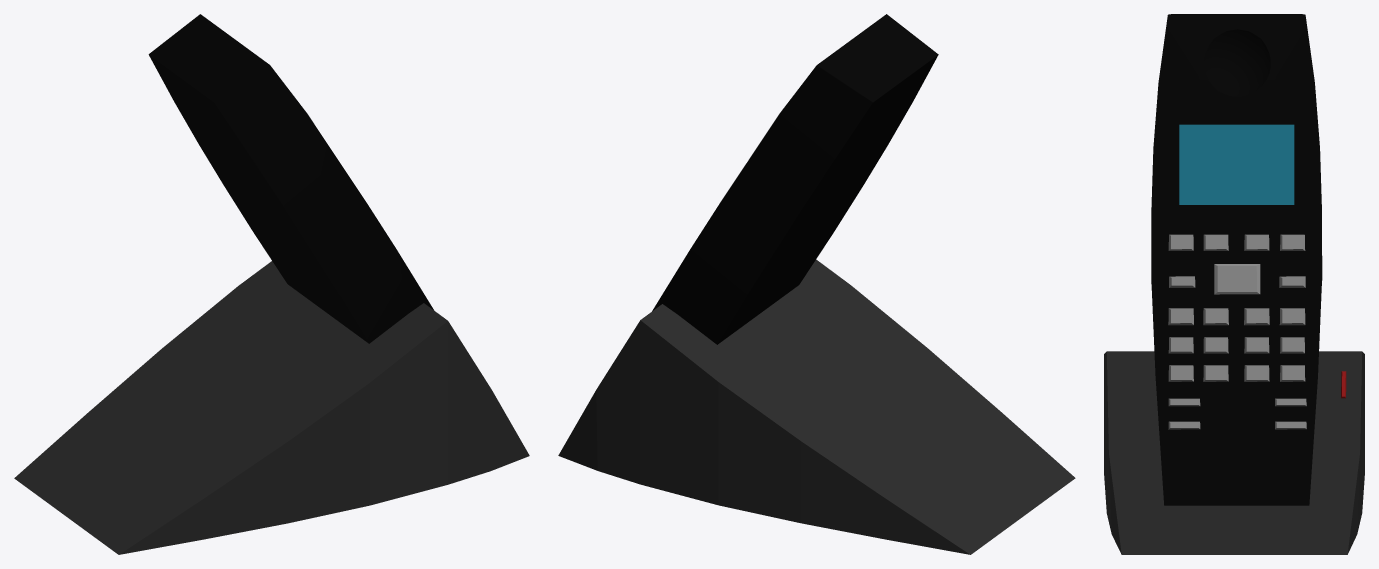
File: Telephone_1.fbx
3 views of the same model, side by side, from view 1: azimuth 30°, elevation 25°; view 2: azimuth 150°, elevation 25°; view 3: azimuth 270°, elevation 25° (orthographic).
Visible parts, largest first — view 1: pCube869, pCube690; view 2: pCube869, pCube690; view 3: pCube690, pCube869, pCube870, pCube835, pCube738, pCube778, pCube768, pCube735, pCube737, pCube687, pCube946, pCube907 (+7 smaller).
Boxes of the visible parts, box(x1,y1,x2,y2) form: pCube869: box(14, 261, 529, 554); pCube690: box(148, 14, 433, 343); pCube869: box(558, 259, 1075, 554); pCube690: box(652, 14, 938, 344); pCube690: box(1151, 14, 1322, 505); pCube869: box(1104, 351, 1364, 554); pCube870: box(1214, 264, 1260, 294); pCube835: box(1168, 308, 1193, 325); pCube738: box(1203, 308, 1228, 325); pCube778: box(1244, 308, 1269, 325); pCube768: box(1279, 308, 1305, 325); pCube735: box(1203, 365, 1228, 381); pCube737: box(1203, 234, 1228, 250); pCube687: box(1244, 365, 1269, 381); pCube946: box(1203, 337, 1228, 353); pCube907: box(1168, 365, 1193, 381).
Bounding box in the file's own units: 14.74 × 15.07 × 8.29.
